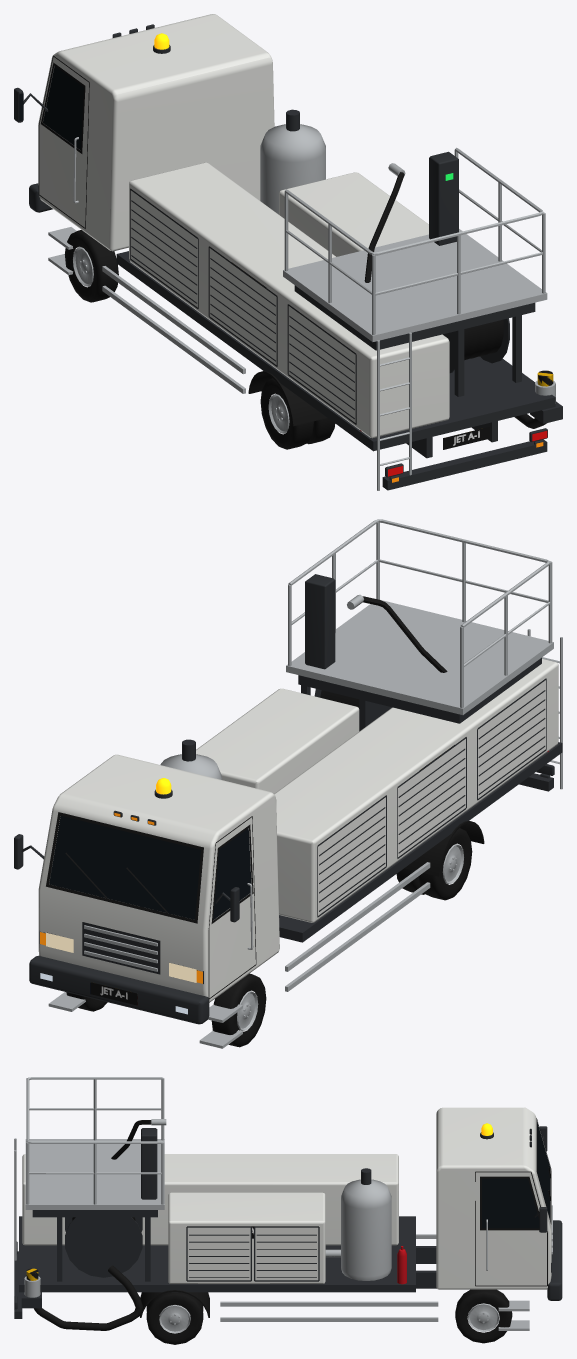
File: fuel_hydrant_dispenser.glb
The picture shows the model from 3 angles, top to bottom: view 1: azimuth 30°, elevation 25°; view 2: azimuth 150°, elevation 25°; view 3: azimuth 270°, elevation 25°; orthographic projection. The views are drawn at different scales.
Visible parts, largest first — view 1: Body, Wheels; view 2: Body, Wheels; view 3: Body, Wheels.
Part boxes in pixels (box(x1,y1,x2,y2)): Body: box(14, 14, 562, 490); Wheels: box(64, 230, 335, 449); Body: box(14, 519, 562, 1048); Wheels: box(66, 828, 472, 1047); Body: box(14, 1077, 562, 1330); Wheels: box(146, 1289, 512, 1344).
Size of what is drawn, in the model's own units: 2.88 by 3.35 by 8.09.
Materials: 9 (3 with a texture image).
